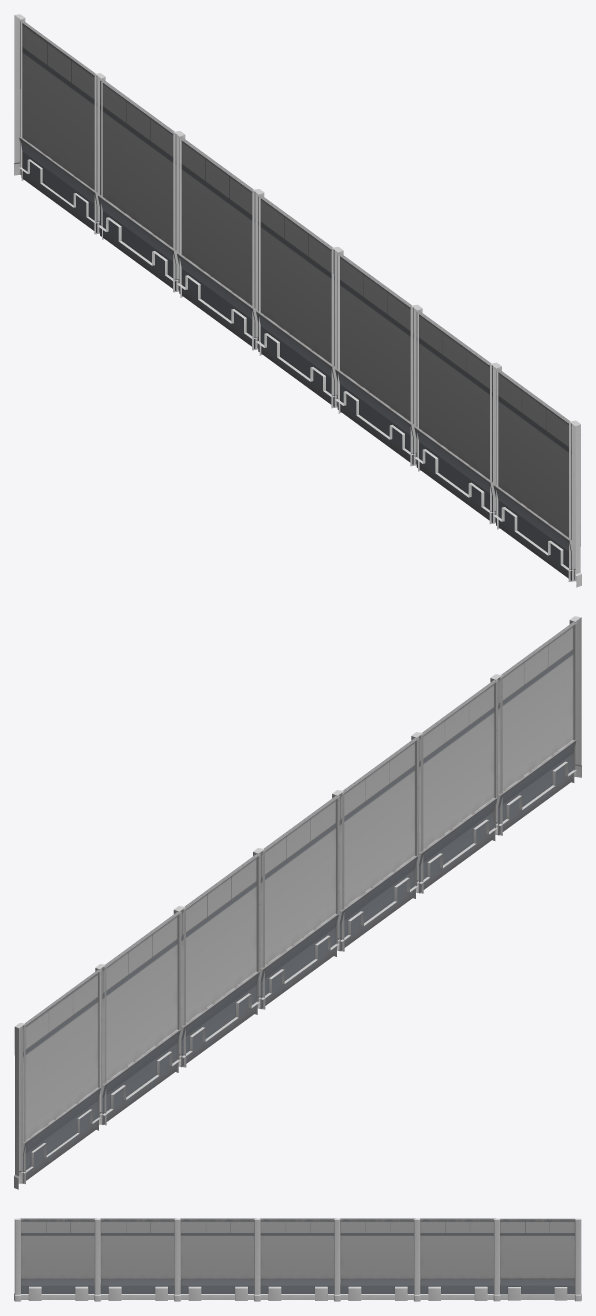
The model's file is Pfb_JALB_WallPart2_Line__8.fbx.
The picture shows the model from 3 angles, top to bottom: view 1: azimuth 30°, elevation 25°; view 2: azimuth 150°, elevation 25°; view 3: azimuth 270°, elevation 25°; orthographic projection. The views are drawn at different scales.
Visible parts, largest first — view 1: MAT_JLABWall; view 2: MAT_JLABWall; view 3: MAT_JLABWall.
Part boxes in pixels (x1,y1,x2,y2): MAT_JLABWall: [14, 14, 581, 587]; MAT_JLABWall: [14, 616, 581, 1189]; MAT_JLABWall: [14, 1218, 581, 1301].
Size of the model in its own units: 0.2509 by 4.04 by 25.6.
1 material, 1 textured.
